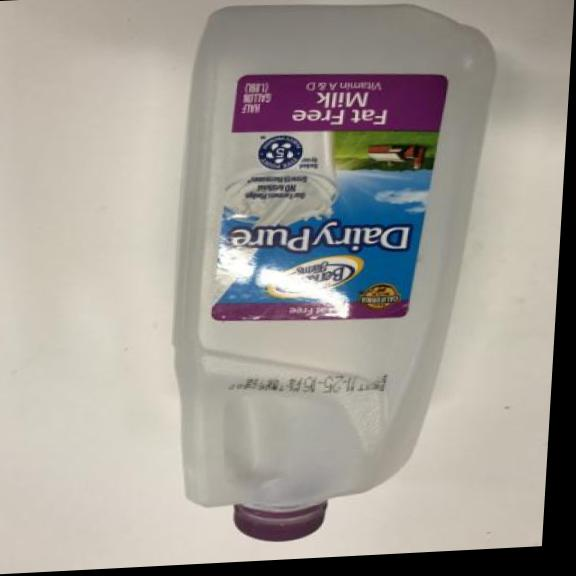Plastik: (143, 0, 513, 553)
